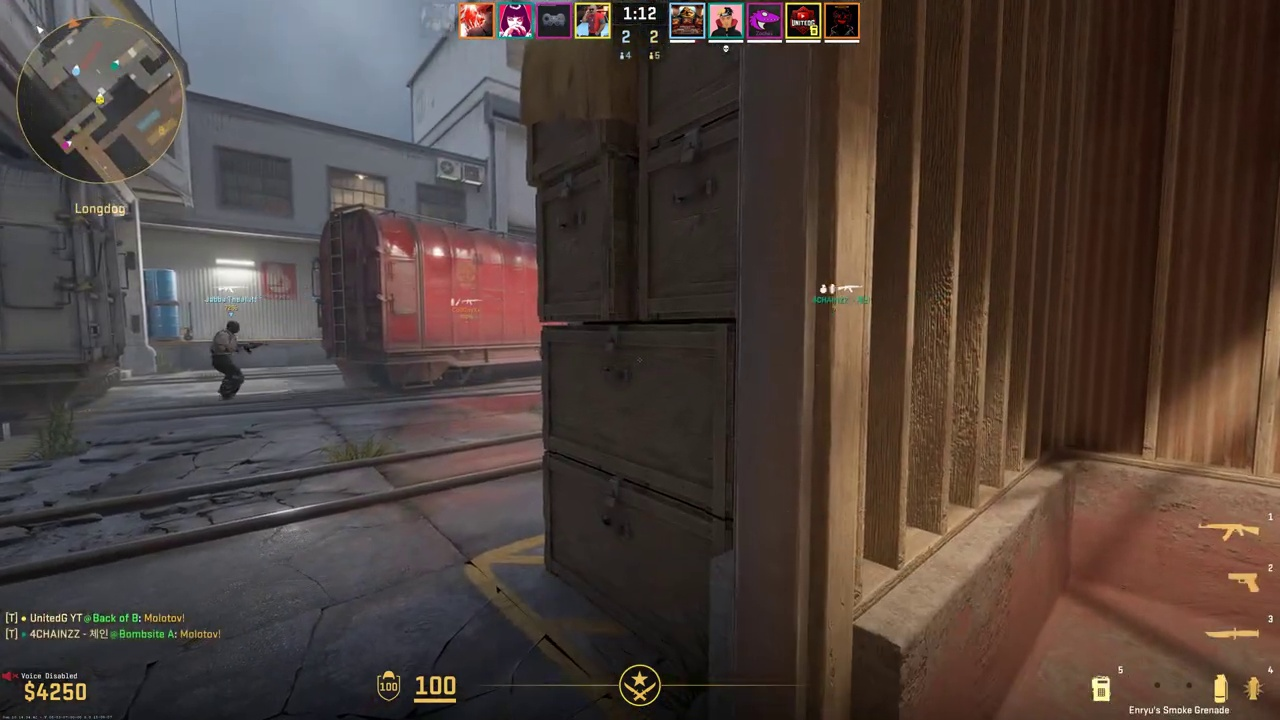Terrorist: (213, 320, 244, 400)
